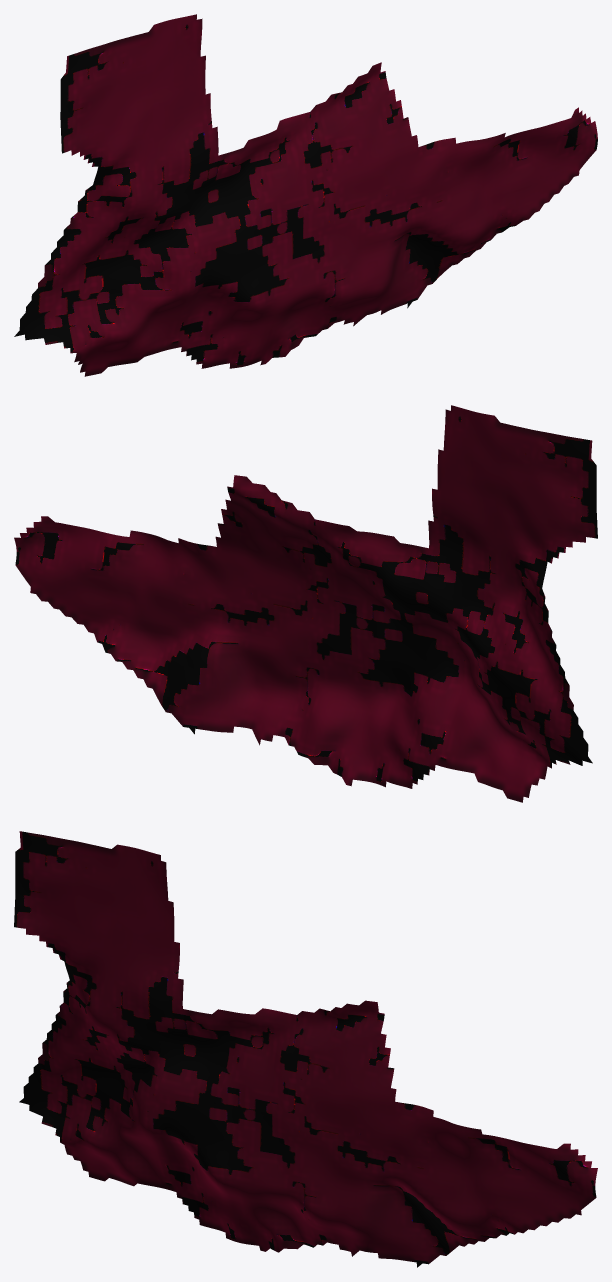
The model's file is tirumala_terrain_los_pair_20261109_20261121.glb.
3 renders of one model, top to bottom at view 1: azimuth 30°, elevation 25°; view 2: azimuth 150°, elevation 25°; view 3: azimuth 330°, elevation 25°, orthographic.
Visible parts, largest first — view 1: Tirumala_Terrain_Mesh; view 2: Tirumala_Terrain_Mesh; view 3: Tirumala_Terrain_Mesh.
Boxes of the visible parts, x1,y1,x2,y2 form: Tirumala_Terrain_Mesh: (14, 14, 597, 376); Tirumala_Terrain_Mesh: (14, 405, 597, 802); Tirumala_Terrain_Mesh: (14, 831, 597, 1267).
Size of the model in its own units: 8560 by 5440 by 719.
1 material, 1 textured.
